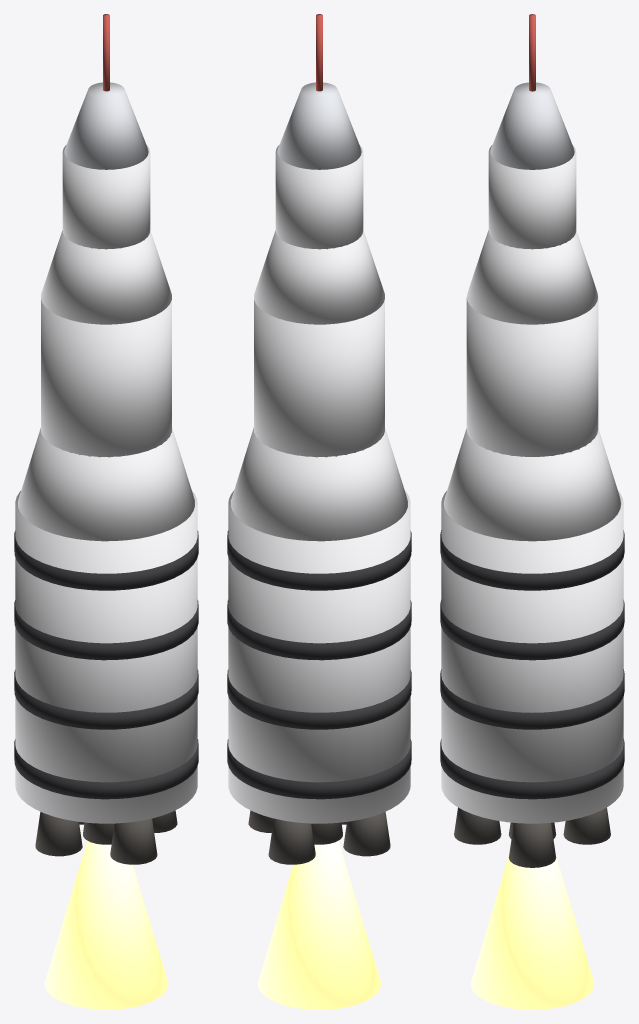
File: rocket_heavy.glb
The picture shows the model from 3 angles, left to right: view 1: azimuth 30°, elevation 25°; view 2: azimuth 150°, elevation 25°; view 3: azimuth 270°, elevation 25°; orthographic projection.
Visible parts, largest first — view 1: rocket_heavy_s1, rocket_heavy_s2, rocket_heavy_i1, rocket_heavy_flame, rocket_heavy_i2, rocket_heavy_s3, rocket_heavy_capsule, rocket_heavy_b3, rocket_heavy_b1, rocket_heavy_b0, rocket_heavy_b2, rocket_heavy_noz3 (+3 smaller); view 2: rocket_heavy_s1, rocket_heavy_s2, rocket_heavy_i1, rocket_heavy_flame, rocket_heavy_i2, rocket_heavy_s3, rocket_heavy_capsule, rocket_heavy_b3, rocket_heavy_b1, rocket_heavy_b0, rocket_heavy_b2, rocket_heavy_noz1 (+3 smaller); view 3: rocket_heavy_s1, rocket_heavy_s2, rocket_heavy_i1, rocket_heavy_flame, rocket_heavy_i2, rocket_heavy_s3, rocket_heavy_capsule, rocket_heavy_b3, rocket_heavy_b1, rocket_heavy_b0, rocket_heavy_b2, rocket_heavy_noz0 (+3 smaller).
Part boxes in pixels (x1,y1,x2,y2): rocket_heavy_s1: (15, 491, 197, 823); rocket_heavy_s2: (41, 299, 171, 457); rocket_heavy_i1: (18, 427, 194, 541); rocket_heavy_flame: (44, 840, 168, 1009); rocket_heavy_i2: (41, 230, 171, 324); rocket_heavy_s3: (62, 145, 150, 249); rocket_heavy_capsule: (64, 82, 148, 169); rocket_heavy_b3: (14, 530, 198, 590); rocket_heavy_b1: (14, 669, 198, 729); rocket_heavy_b0: (14, 739, 198, 799); rocket_heavy_b2: (14, 600, 198, 660); rocket_heavy_noz3: (110, 818, 157, 864); rocket_heavy_s1: (228, 491, 410, 823); rocket_heavy_s2: (254, 299, 384, 457); rocket_heavy_i1: (231, 427, 407, 541); rocket_heavy_flame: (257, 840, 381, 1009); rocket_heavy_i2: (254, 230, 384, 324); rocket_heavy_s3: (275, 145, 363, 249); rocket_heavy_capsule: (277, 82, 361, 169); rocket_heavy_b3: (227, 530, 411, 590); rocket_heavy_b1: (227, 669, 411, 729); rocket_heavy_b0: (227, 739, 411, 799); rocket_heavy_b2: (227, 600, 411, 660); rocket_heavy_noz1: (268, 818, 315, 864); rocket_heavy_s1: (441, 491, 623, 823); rocket_heavy_s2: (466, 297, 598, 456); rocket_heavy_i1: (443, 428, 621, 541); rocket_heavy_flame: (470, 856, 594, 1009); rocket_heavy_i2: (467, 230, 597, 324); rocket_heavy_s3: (488, 145, 576, 249); rocket_heavy_capsule: (490, 82, 574, 169); rocket_heavy_b3: (440, 530, 624, 590); rocket_heavy_b1: (440, 669, 624, 729); rocket_heavy_b0: (440, 739, 624, 799); rocket_heavy_b2: (440, 600, 624, 660); rocket_heavy_noz0: (508, 823, 556, 867).
Bounding box in the file's own units: 1.01 × 5.85 × 1.01.
